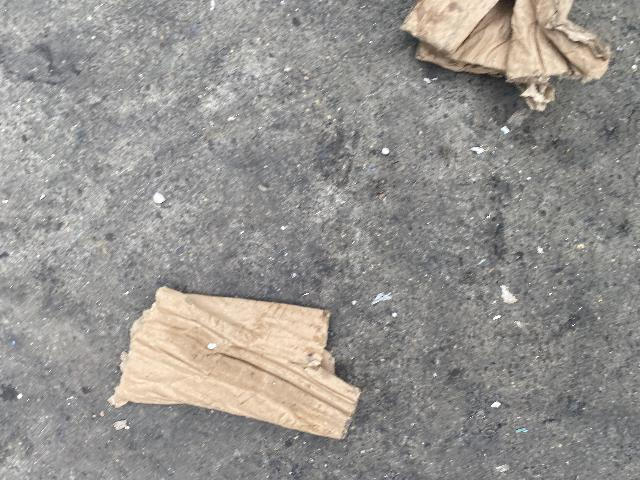Kagit: (101, 284, 365, 442), (398, 0, 614, 113)
